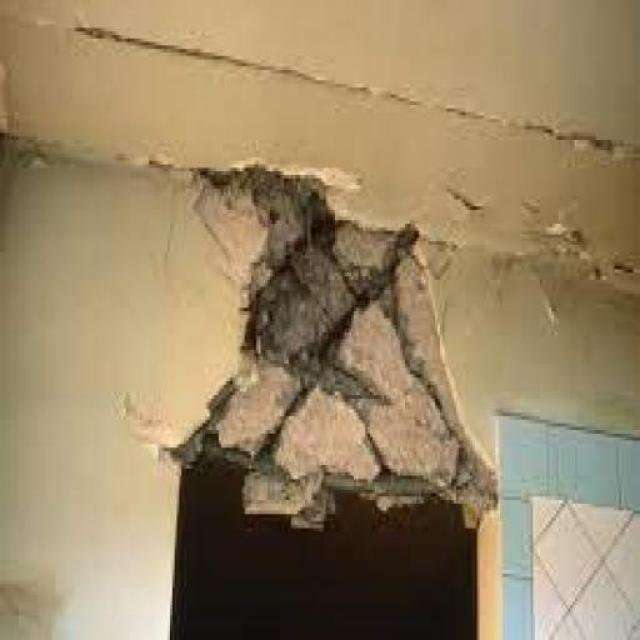D0w0: (178, 169, 494, 525)
